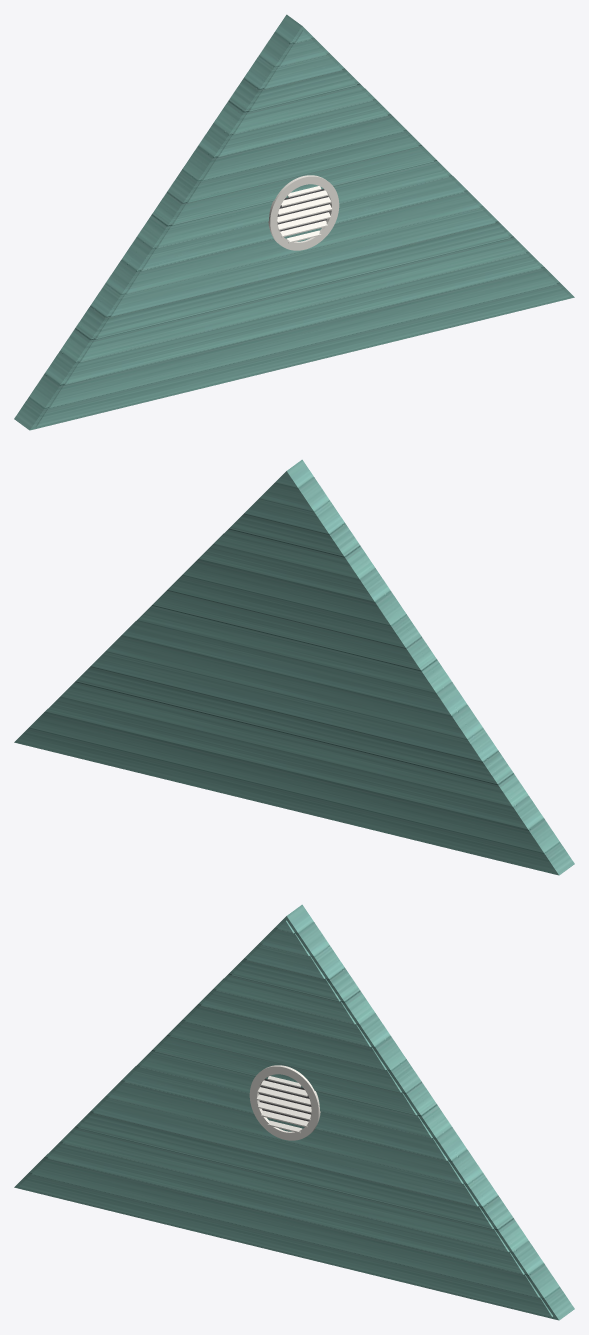
File: gable_back_c.glb
The picture shows the model from 3 angles, top to bottom: view 1: azimuth 30°, elevation 25°; view 2: azimuth 150°, elevation 25°; view 3: azimuth 330°, elevation 25°; orthographic projection.
Visible parts, largest first — view 1: gable_back_c_siding_c, gable_back_c_trim; view 2: gable_back_c_siding_c; view 3: gable_back_c_siding_c, gable_back_c_trim.
Part boxes in pixels (x1=…): gable_back_c_siding_c: x1=14, y1=14, x2=574, y2=430; gable_back_c_trim: x1=268, y1=175, x2=339, y2=250; gable_back_c_siding_c: x1=14, y1=459, x2=574, y2=875; gable_back_c_siding_c: x1=14, y1=904, x2=574, y2=1320; gable_back_c_trim: x1=249, y1=1065, x2=320, y2=1140.
Size of the model in its own units: 6 by 3.56 by 0.35.
3 materials, 1 textured.
